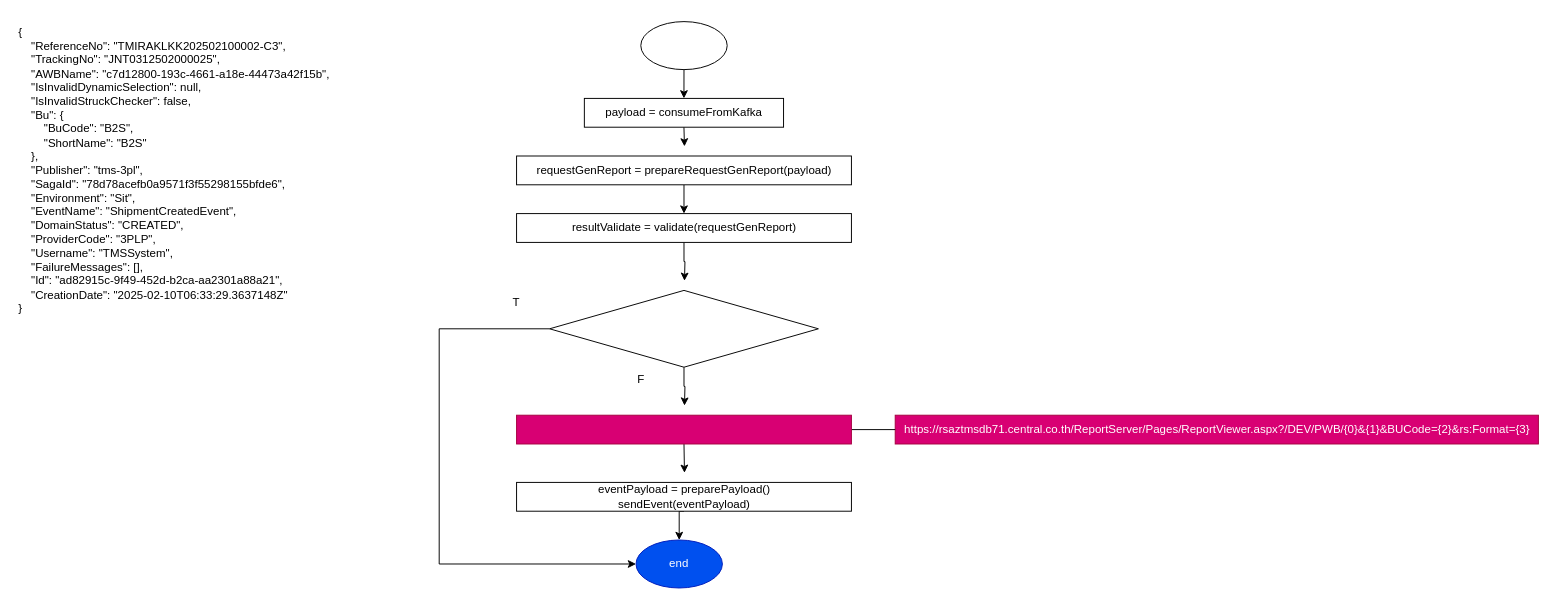
The diagram is 1555 pixels wide and 605 high, and some of its shapes have lost their labels. The shapes that lost their labels are listed below. From the top down, each one's box as (x1, y1, x2, y2) in pixels, then its label:
(640, 21, 727, 70): start
(549, 289, 818, 367): resultValidate is invalid
(516, 414, 851, 444): file = api.GenerateReport(requestGenReport)
